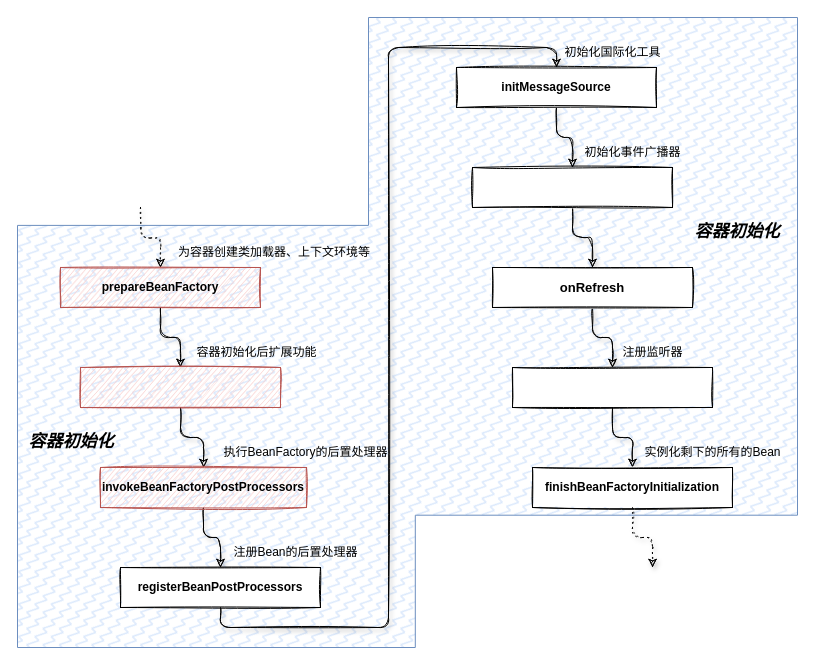
This 815x665 diagram has some shape labels left out. The shapes that lost their labels are listed below. From the top down, each one's centre as x and y in pixels, then its label:
At (572,187): "initApplicationEventMulticaster".
At (180,387): "postProcessBeanFactory".
At (612,387): "registerListeners".
